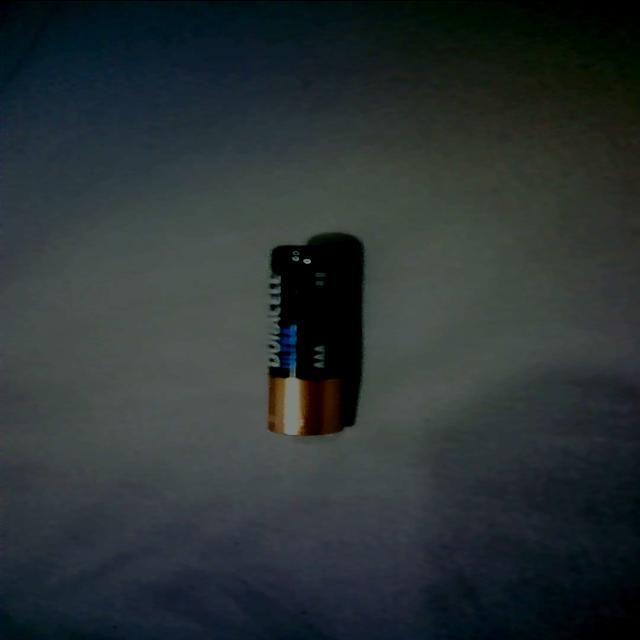AAA: (254, 240, 366, 440)
